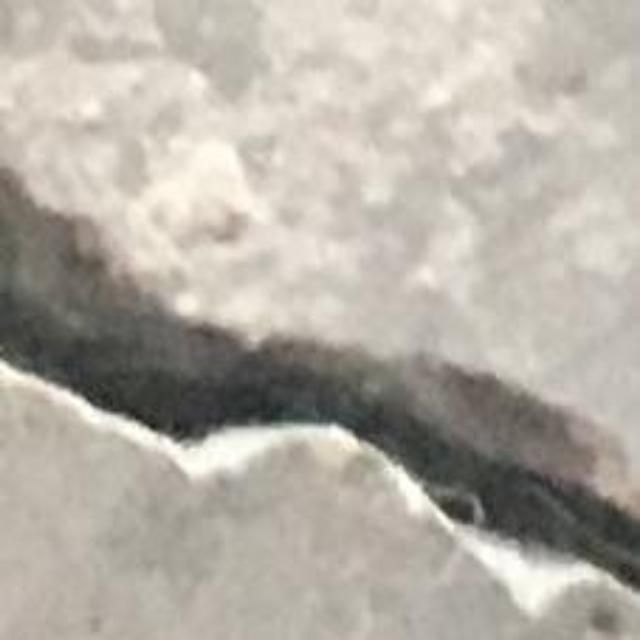crack: (0, 170, 639, 594)
